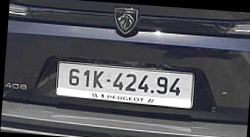Bien-so: (59, 55, 196, 100)
